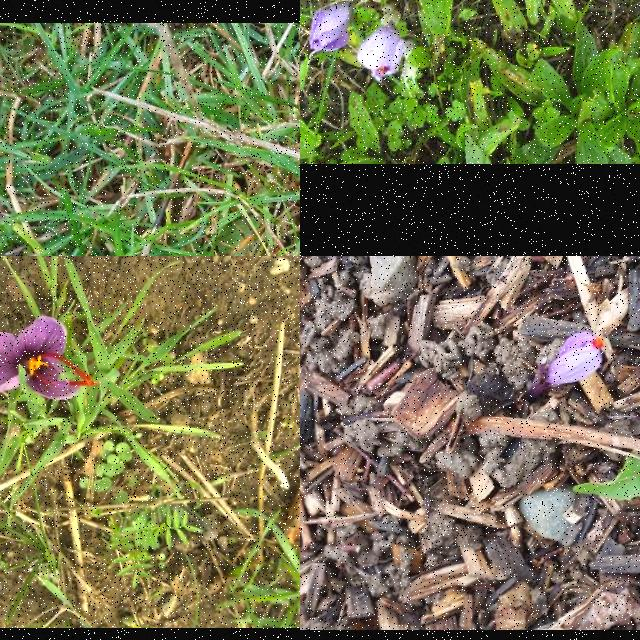flower: (0, 317, 97, 401), (544, 332, 602, 388), (358, 27, 407, 85), (308, 5, 356, 53)
